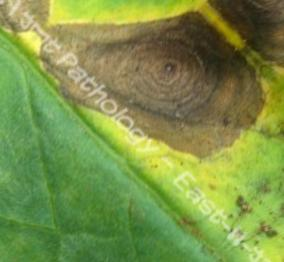Tomato Early blight leaf: (3, 0, 284, 262)
